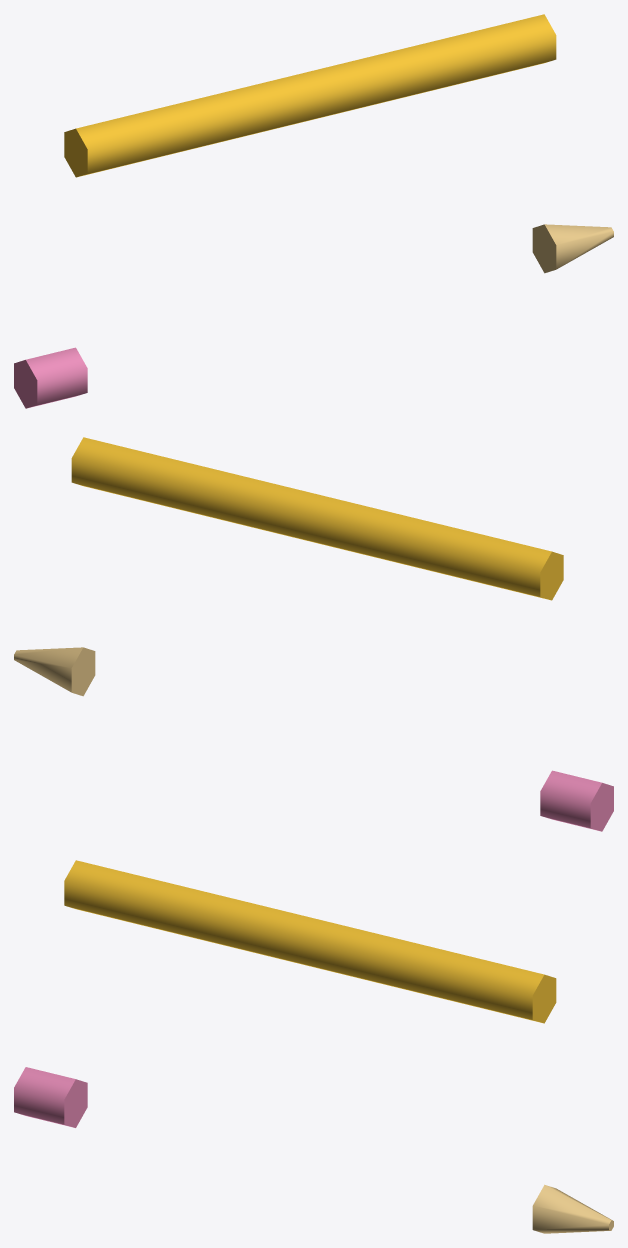
Rendered from pencil.glb.
3 renders of one model, top to bottom at view 1: azimuth 30°, elevation 25°; view 2: azimuth 150°, elevation 25°; view 3: azimuth 330°, elevation 25°, orthographic.
Visible parts, largest first — view 1: root; view 2: root; view 3: root.
Part boxes in pixels (x1,y1,x2,y2): root: (14,14,613,408); root: (14,437,613,831); root: (14,860,613,1233).
Size of the model in its own units: 0.35 by 0.153 by 0.0242.
